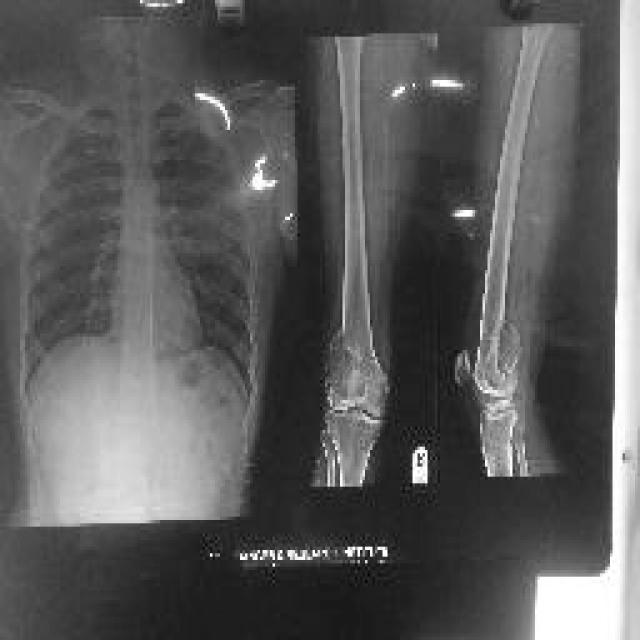bone-cancer: (321, 325, 391, 407), (486, 319, 523, 377)
